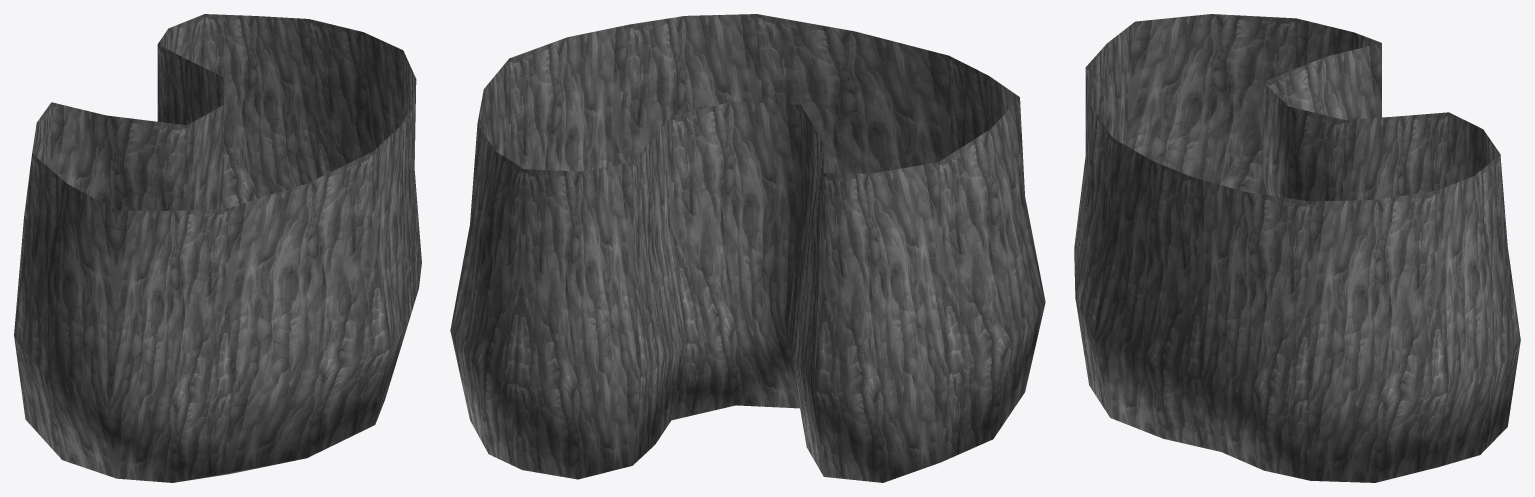
File: SWORDLIGHT20_PS-AREA01_05.fbx
3 renders of one model, left to right at view 1: azimuth 30°, elevation 25°; view 2: azimuth 150°, elevation 25°; view 3: azimuth 270°, elevation 25°, orthographic. The views are drawn at different scales.
Visible parts, largest first — view 1: SWORDLIGHT20_PS-AREA01_05; view 2: SWORDLIGHT20_PS-AREA01_05; view 3: SWORDLIGHT20_PS-AREA01_05.
Boxes of the visible parts, x1,y1,x2,y2 form: SWORDLIGHT20_PS-AREA01_05: [14, 14, 421, 482]; SWORDLIGHT20_PS-AREA01_05: [450, 14, 1045, 482]; SWORDLIGHT20_PS-AREA01_05: [1074, 14, 1520, 482].
Size of the model in its own units: 228374 by 158719 by 208678.
4 materials, 4 textured.
